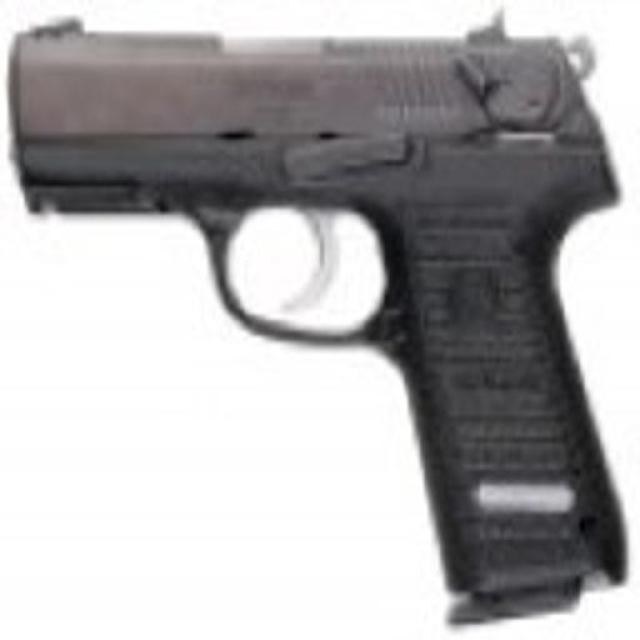pistol: (15, 15, 627, 612)
